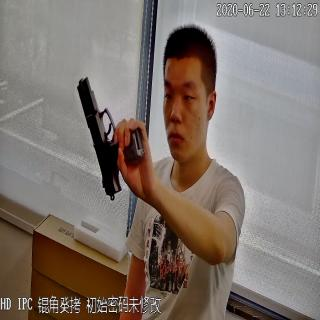gun: (76, 76, 146, 200)
